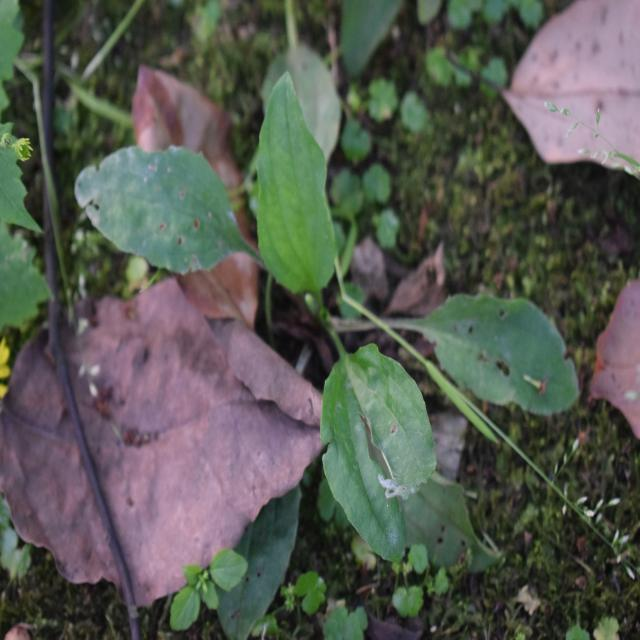plantain: (103, 104, 548, 546)
